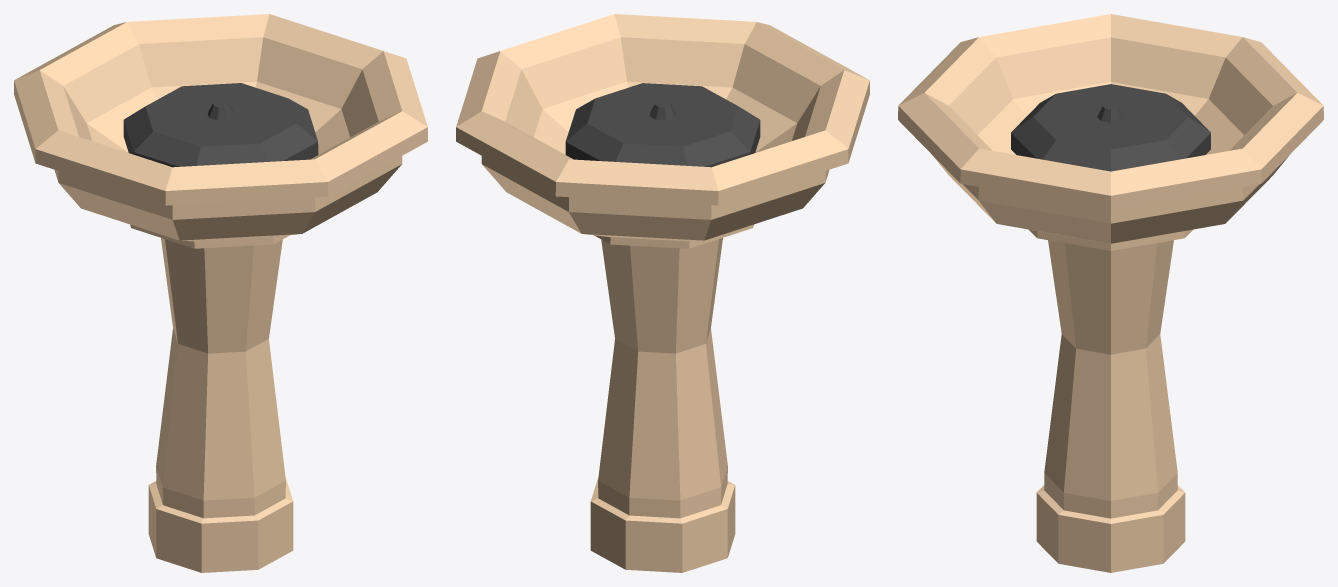
Rendered from Fountain.fbx.
The picture shows the model from 3 angles, left to right: view 1: azimuth 30°, elevation 25°; view 2: azimuth 150°, elevation 25°; view 3: azimuth 270°, elevation 25°; orthographic projection.
Parts seen in each view (by area): view 1: Cylinder.004; view 2: Cylinder.004; view 3: Cylinder.004.
Part boxes in pixels (x1=…): Cylinder.004: x1=14, y1=14, x2=427, y2=572; Cylinder.004: x1=456, y1=14, x2=869, y2=572; Cylinder.004: x1=898, y1=14, x2=1323, y2=572.
Size of the model in its own units: 1942 by 2260 by 1944.
